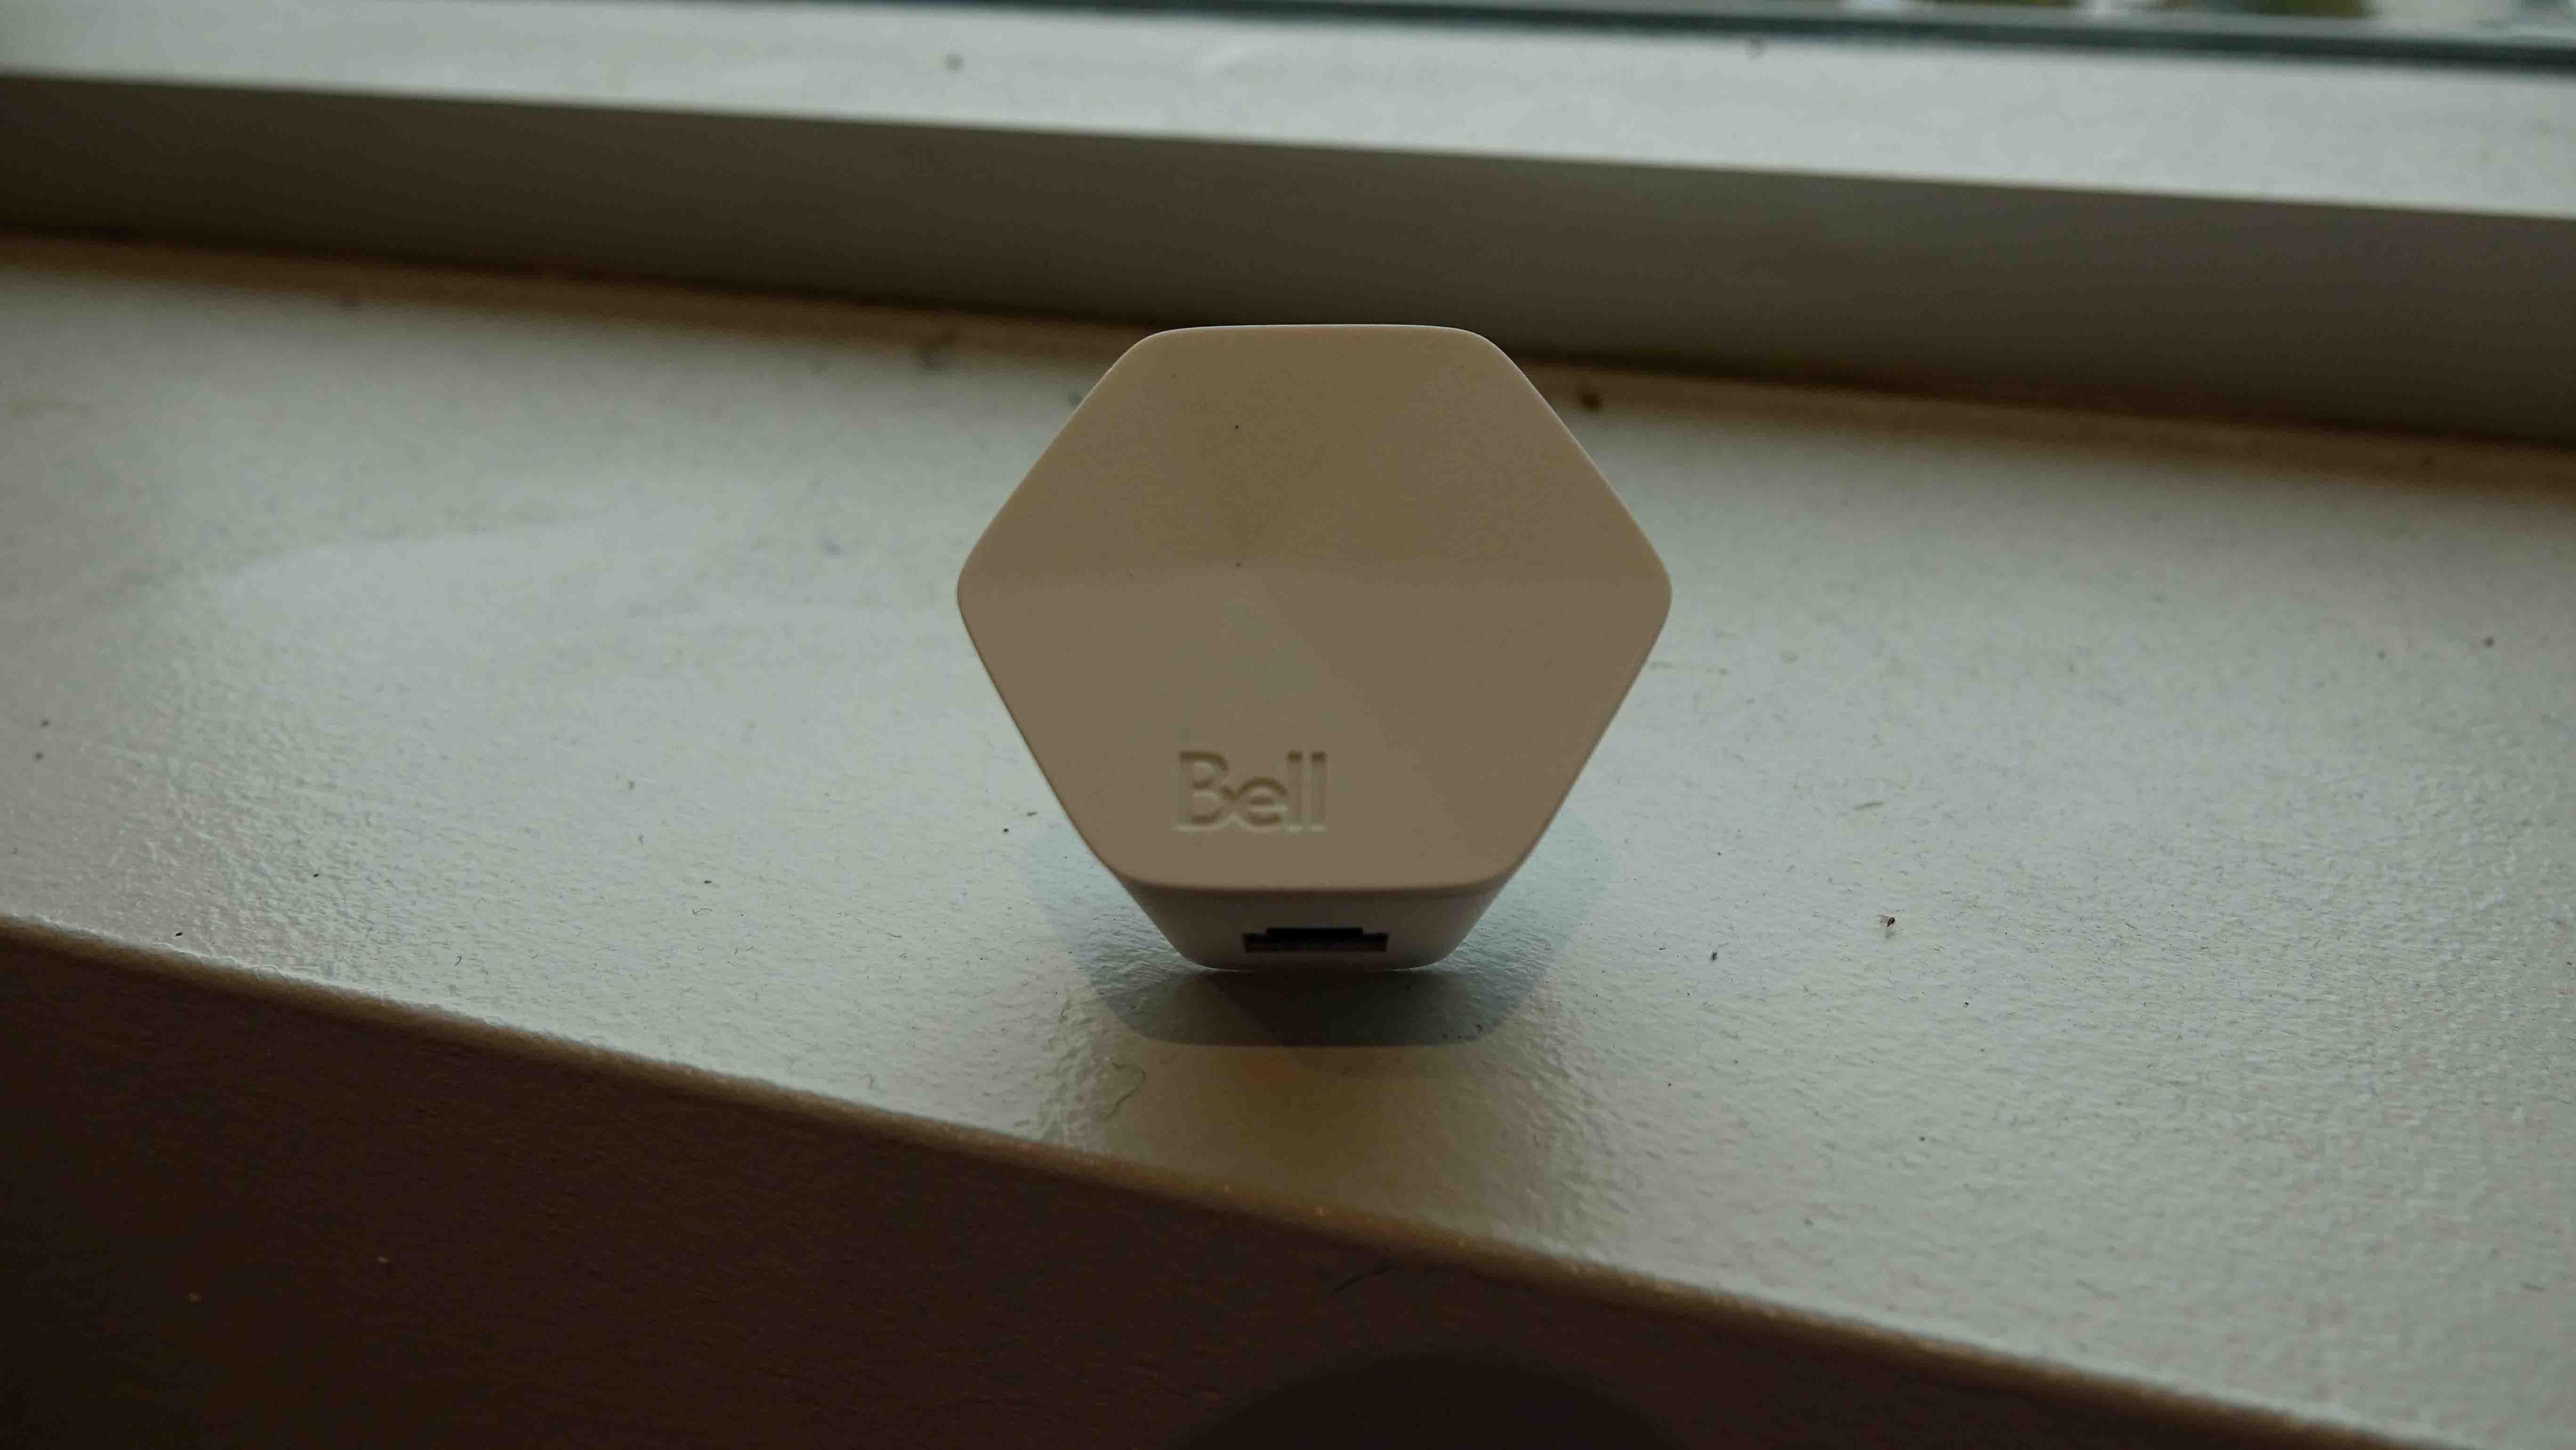pod: (952, 308, 1683, 996)
